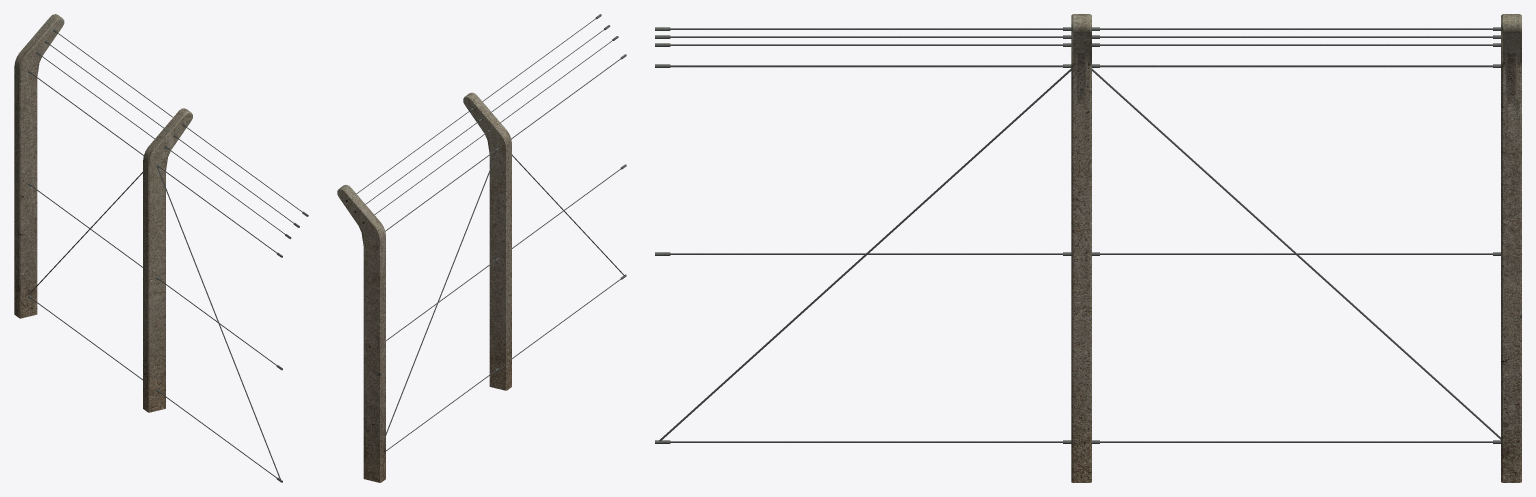
The model's file is object_18.001_lev2.glb.
3 renders of one model, left to right at view 1: azimuth 30°, elevation 25°; view 2: azimuth 150°, elevation 25°; view 3: azimuth 270°, elevation 25°, orthographic. The views are drawn at different scales.
Parts seen in each view (by area): view 1: object_18.001_lev2; view 2: object_18.001_lev2; view 3: object_18.001_lev2.
Boxes of the visible parts, x1,y1,x2,y2 form: object_18.001_lev2: (14,14,308,482); object_18.001_lev2: (337,14,626,482); object_18.001_lev2: (655,14,1521,482).
Size of the model in its own units: 0.7333 by 4.53 by 7.34.
1 material, 1 textured.
